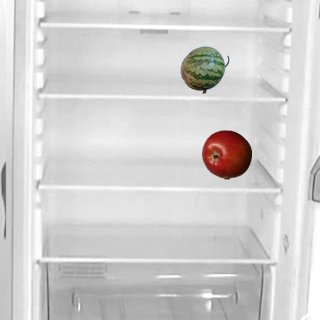Apple Braeburn: (201, 129, 251, 179)
Watermelon: (179, 44, 229, 94)
